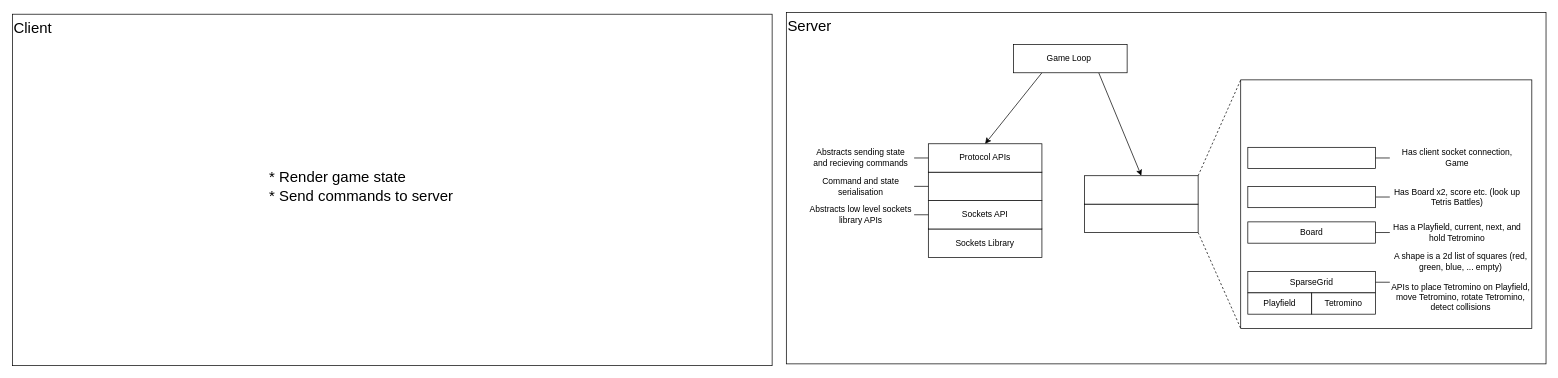
Some shapes in this 1558 by 378 pixel diagram are drawn without their labels. The centre of each missing label's shape, as x and y in pixels:
"Data APIs" belongs at point (1141, 189).
"Data structures" belongs at point (1141, 218).
"Game" belongs at point (1311, 197).
"Protocol Layer" belongs at point (985, 186).
"Session" belongs at point (1311, 158).
